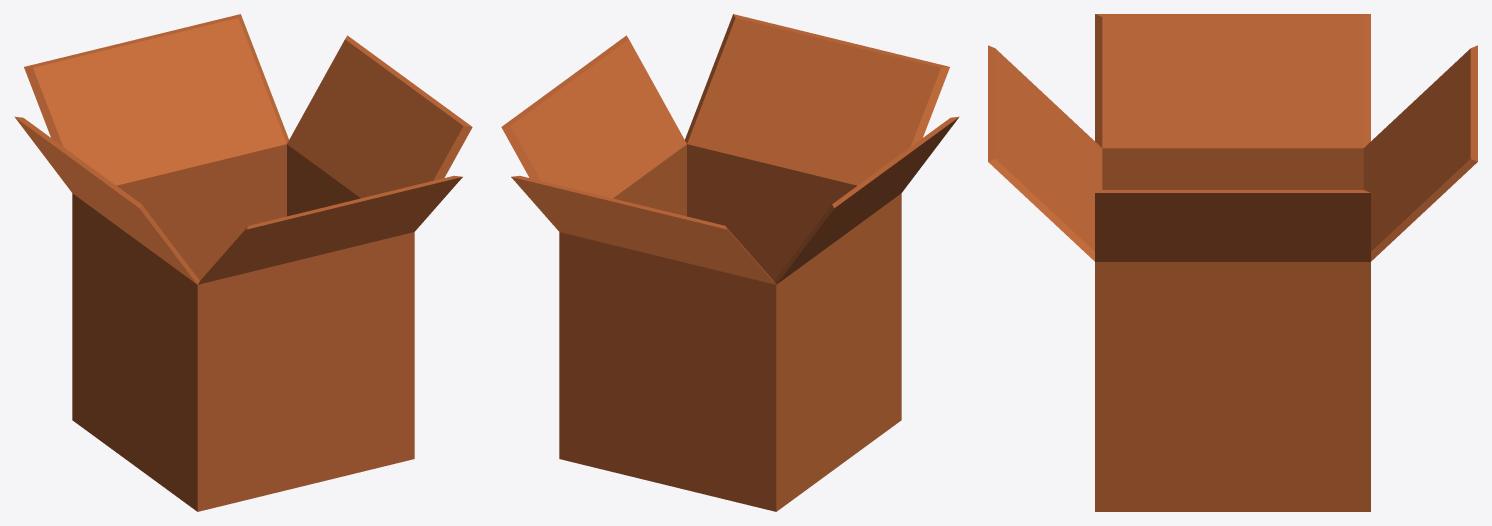
The model's file is Caixa de Papelao Pqn.fbx.
3 renders of one model, left to right at view 1: azimuth 30°, elevation 25°; view 2: azimuth 150°, elevation 25°; view 3: azimuth 270°, elevation 25°, orthographic. The views are drawn at different scales.
Parts seen in each view (by area): view 1: Caixa Papelao Pqn; view 2: Caixa Papelao Pqn; view 3: Caixa Papelao Pqn.
Boxes of the visible parts, <box> form: Caixa Papelao Pqn: <box>14,14,472,511</box>; Caixa Papelao Pqn: <box>501,14,959,511</box>; Caixa Papelao Pqn: <box>988,14,1477,511</box>.
Size of the model in its own units: 122 by 111 by 141.
